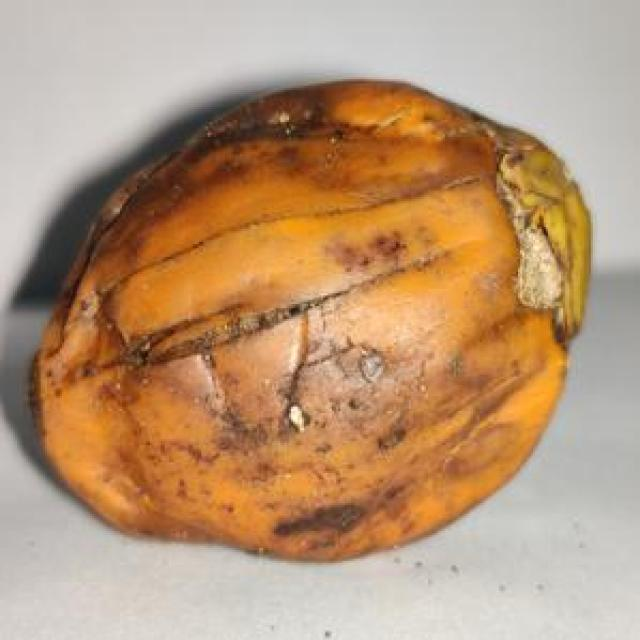damaged: (24, 79, 593, 565)
